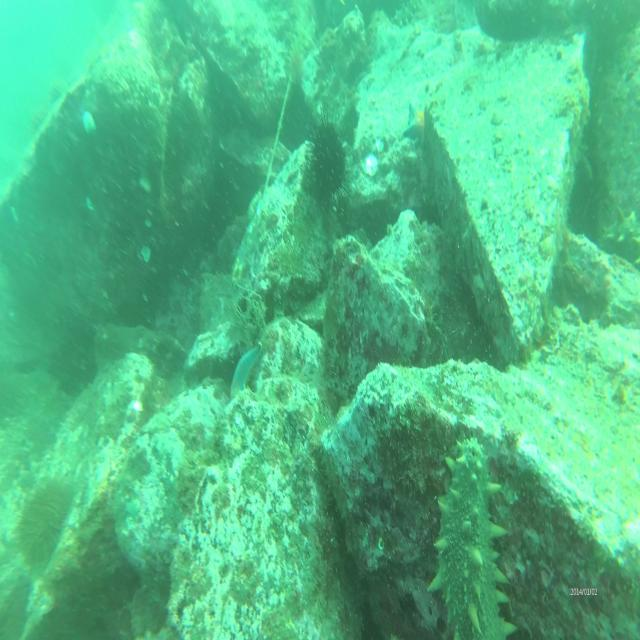echinus: (300, 111, 358, 214), (14, 478, 71, 579)
holothurian: (431, 435, 517, 640), (601, 197, 640, 270), (285, 23, 309, 92), (390, 0, 424, 30)
starfish: (228, 342, 263, 398), (399, 102, 426, 142), (360, 150, 380, 185), (373, 134, 385, 153)
